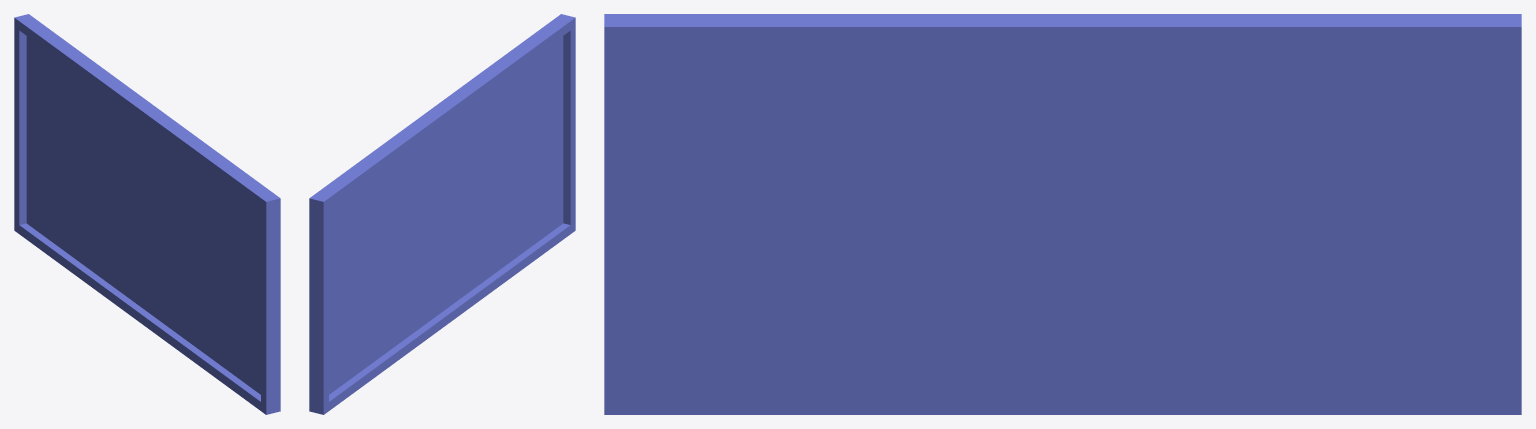
The model's file is table.glb.
3 renders of one model, left to right at view 1: azimuth 30°, elevation 25°; view 2: azimuth 150°, elevation 25°; view 3: azimuth 270°, elevation 25°, orthographic. The views are drawn at different scales.
Parts seen in each view (by area): view 1: Cube.035; view 2: Cube.035; view 3: Cube.035.
Boxes of the visible parts, bbox=[...] form: Cube.035: bbox=[14, 14, 280, 414]; Cube.035: bbox=[309, 14, 575, 414]; Cube.035: bbox=[604, 14, 1521, 414].
Size of the model in its own units: 0.2 by 2.8 by 6.
